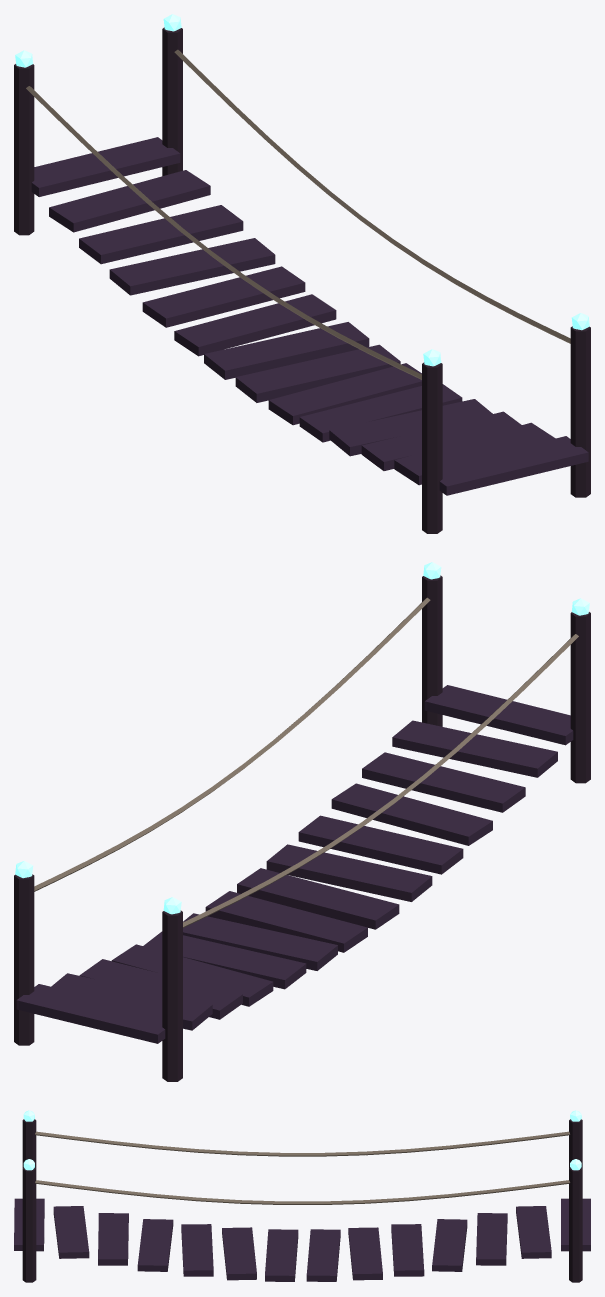
The model's file is pont_corde_modele.glb.
3 renders of one model, top to bottom at view 1: azimuth 30°, elevation 25°; view 2: azimuth 150°, elevation 25°; view 3: azimuth 270°, elevation 25°, orthographic. The views are drawn at different scales.
Visible parts, largest first — view 1: P4.016, P3.009, P2.014, P5.007, P6.014, P7.014, P14.015, P1.014, P8.014, P9.013, P30.007, P28.010 (+6 smaller); view 2: P13.014, P12.014, P10.006, P9.013, P11.014, P8.014, P1.014, P14.015, P7.014, P6.014, P28.010, P30.007 (+6 smaller); view 3: P47.003, P11.014, P13.014, P2.014, P4.016, P9.013, P7.014, P6.014, P5.007, P8.014, P10.006, P3.009 (+6 smaller).
Boxes of the visible parts, left/top/right/bottom form: P4.016: left=109, top=238, right=275, bottom=295; P3.009: left=79, top=205, right=243, bottom=264; P2.014: left=49, top=170, right=210, bottom=232; P5.007: left=142, top=266, right=305, bottom=327; P6.014: left=174, top=294, right=336, bottom=356; P7.014: left=204, top=322, right=369, bottom=379; P14.015: left=439, top=436, right=588, bottom=495; P1.014: left=31, top=137, right=180, bottom=196; P8.014: left=235, top=344, right=400, bottom=402; P9.013: left=268, top=363, right=421, bottom=425; P30.007: left=422, top=362, right=442, bottom=533; P28.010: left=14, top=64, right=34, bottom=235; P13.014: left=392, top=720, right=557, bottom=777; P12.014: left=362, top=752, right=525, bottom=812; P10.006: left=298, top=815, right=463, bottom=874; P9.013: left=266, top=844, right=432, bottom=901; P11.014: left=331, top=783, right=492, bottom=845; P8.014: left=237, top=868, right=399, bottom=929; P1.014: left=16, top=984, right=165, bottom=1043; P14.015: left=424, top=685, right=573, bottom=745; P7.014: left=205, top=891, right=367, bottom=952; P6.014: left=183, top=913, right=337, bottom=970; P28.010: left=162, top=910, right=182, bottom=1081; P30.007: left=570, top=612, right=590, bottom=783; P47.003: left=22, top=1168, right=36, bottom=1282; P11.014: left=137, top=1219, right=173, bottom=1271; P13.014: left=53, top=1206, right=89, bottom=1258; P2.014: left=516, top=1206, right=551, bottom=1258; P4.016: left=432, top=1219, right=467, bottom=1271; P9.013: left=222, top=1227, right=256, bottom=1280; P7.014: left=306, top=1229, right=340, bottom=1281; P6.014: left=348, top=1227, right=382, bottom=1280; P5.007: left=391, top=1224, right=424, bottom=1276; P8.014: left=265, top=1229, right=298, bottom=1281; P10.006: left=181, top=1224, right=213, bottom=1276; P3.009: left=476, top=1213, right=507, bottom=1265.
Size of the model in its own units: 0.9294 by 1 by 4.22.
